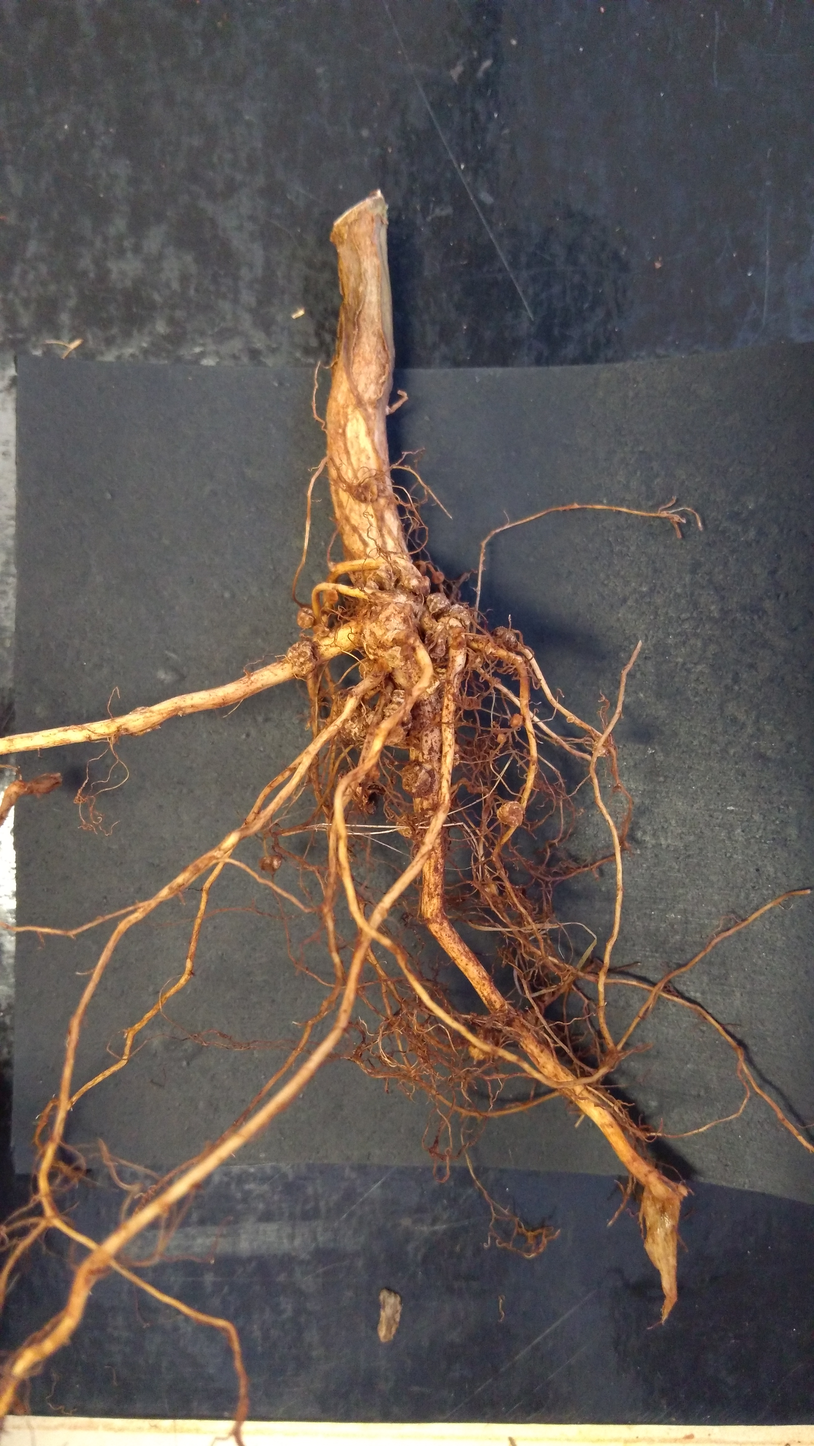nodule: (361, 602, 418, 653), (326, 689, 375, 746), (380, 687, 414, 747), (282, 636, 321, 681), (394, 761, 434, 799), (493, 794, 530, 830), (421, 625, 447, 667), (419, 725, 444, 763), (393, 811, 418, 842), (362, 569, 391, 594), (293, 604, 315, 636), (447, 603, 474, 627), (403, 572, 430, 596), (423, 591, 452, 612), (354, 657, 380, 680), (255, 852, 282, 874), (315, 586, 343, 607), (493, 625, 517, 649), (385, 645, 408, 670), (465, 1040, 487, 1064), (506, 709, 527, 733), (478, 883, 498, 906), (360, 477, 379, 501), (591, 738, 610, 761), (429, 568, 446, 586), (313, 622, 332, 638), (450, 634, 466, 651), (399, 642, 414, 658), (493, 731, 508, 745), (317, 612, 333, 625), (565, 711, 574, 727)
